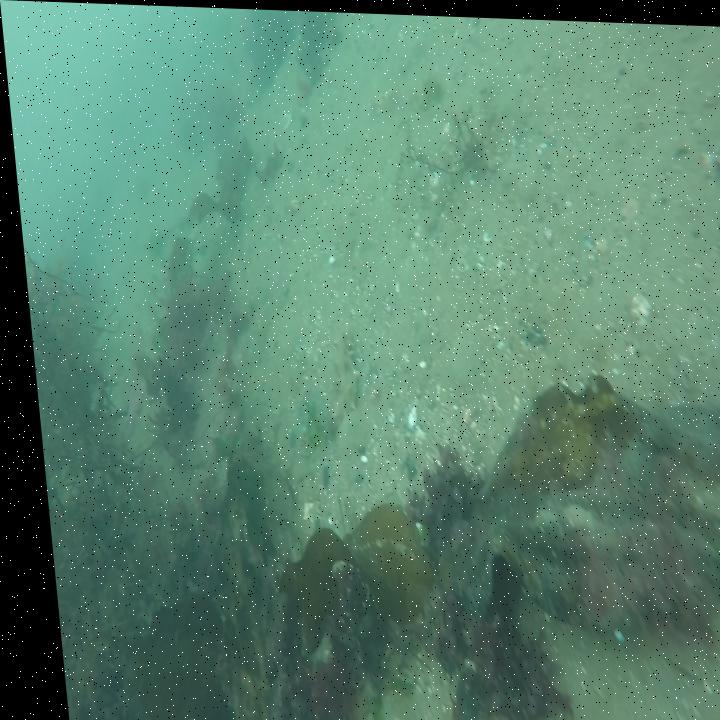holothurian: (314, 327, 357, 436)
